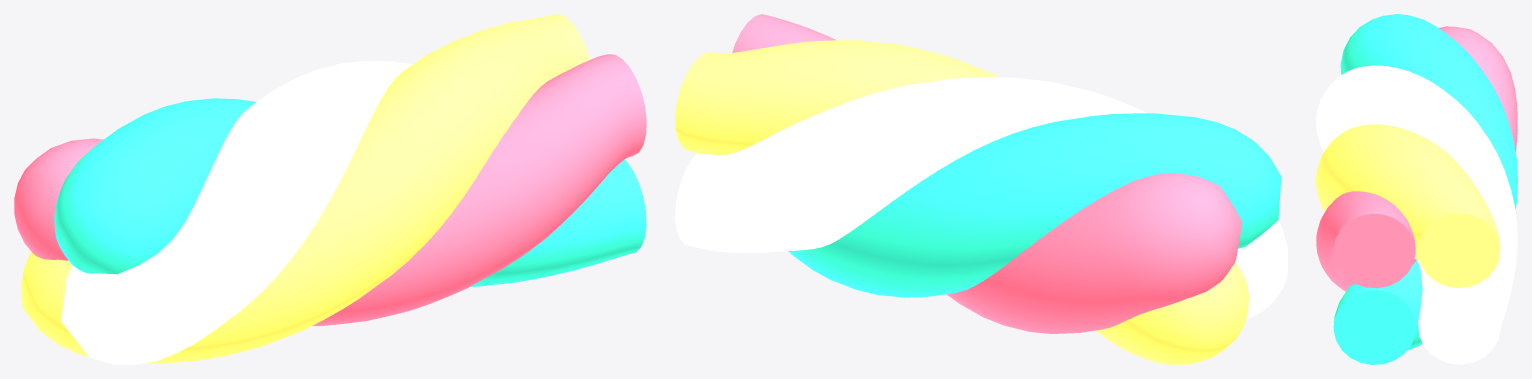
The picture shows the model from 3 angles, left to right: view 1: azimuth 30°, elevation 25°; view 2: azimuth 150°, elevation 25°; view 3: azimuth 270°, elevation 25°; orthographic projection. The views are drawn at different scales.
Parts seen in each view (by area): view 1: Marshmellow-left; view 2: Marshmellow-left; view 3: Marshmellow-left.
Part boxes in pixels (<box>): Marshmellow-left: <box>14,14,646,364</box>; Marshmellow-left: <box>675,14,1287,364</box>; Marshmellow-left: <box>1316,14,1517,364</box>.
Size of the model in its own units: 0.86 by 0.35 by 0.35.
